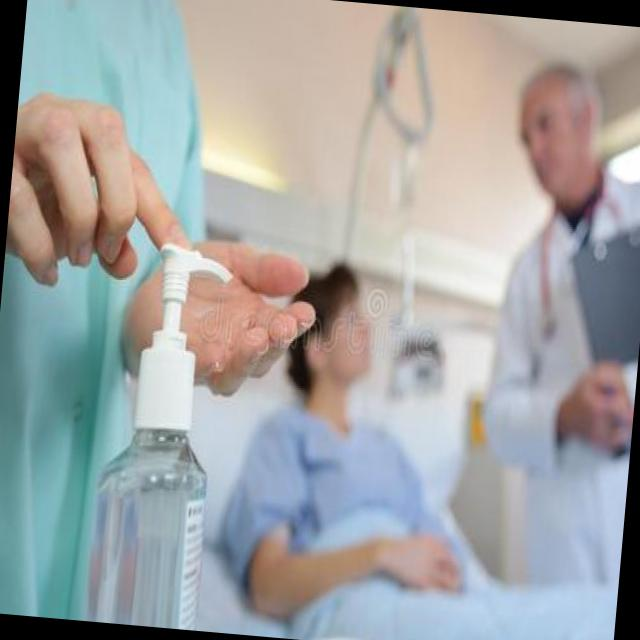sanitizer: (84, 229, 228, 628)
